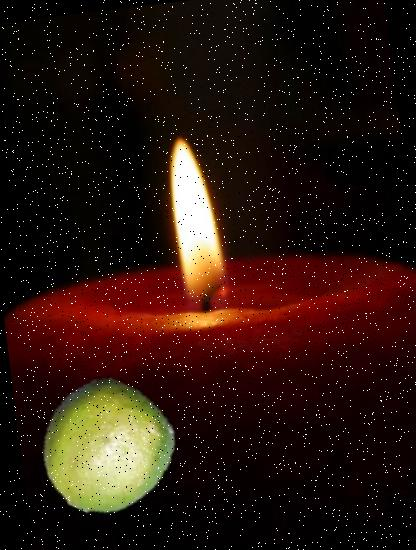Limes: (32, 374, 181, 523)
